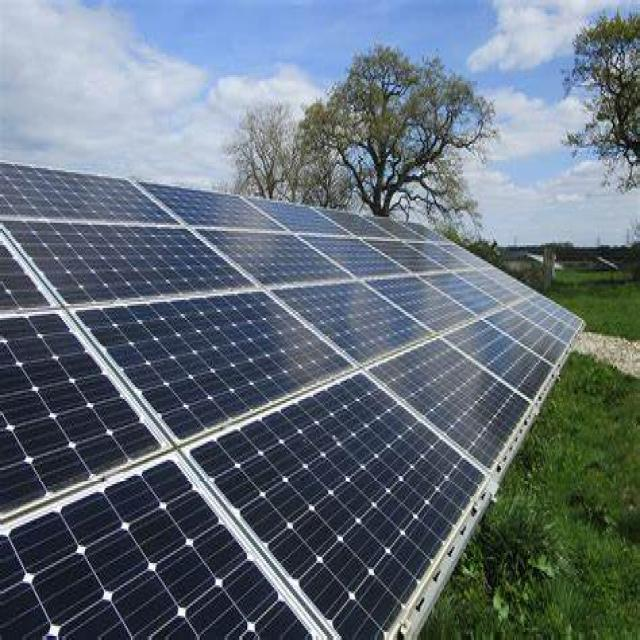clean-solar-panel: (0, 164, 582, 638)
